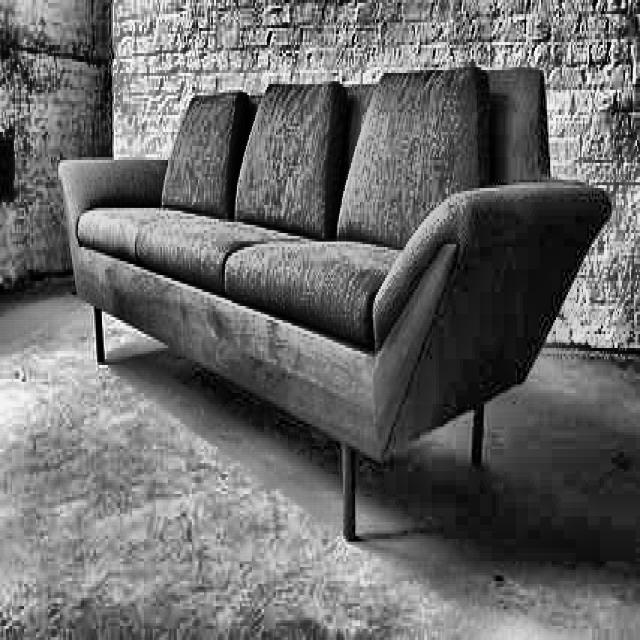sofa: (60, 67, 612, 542)
